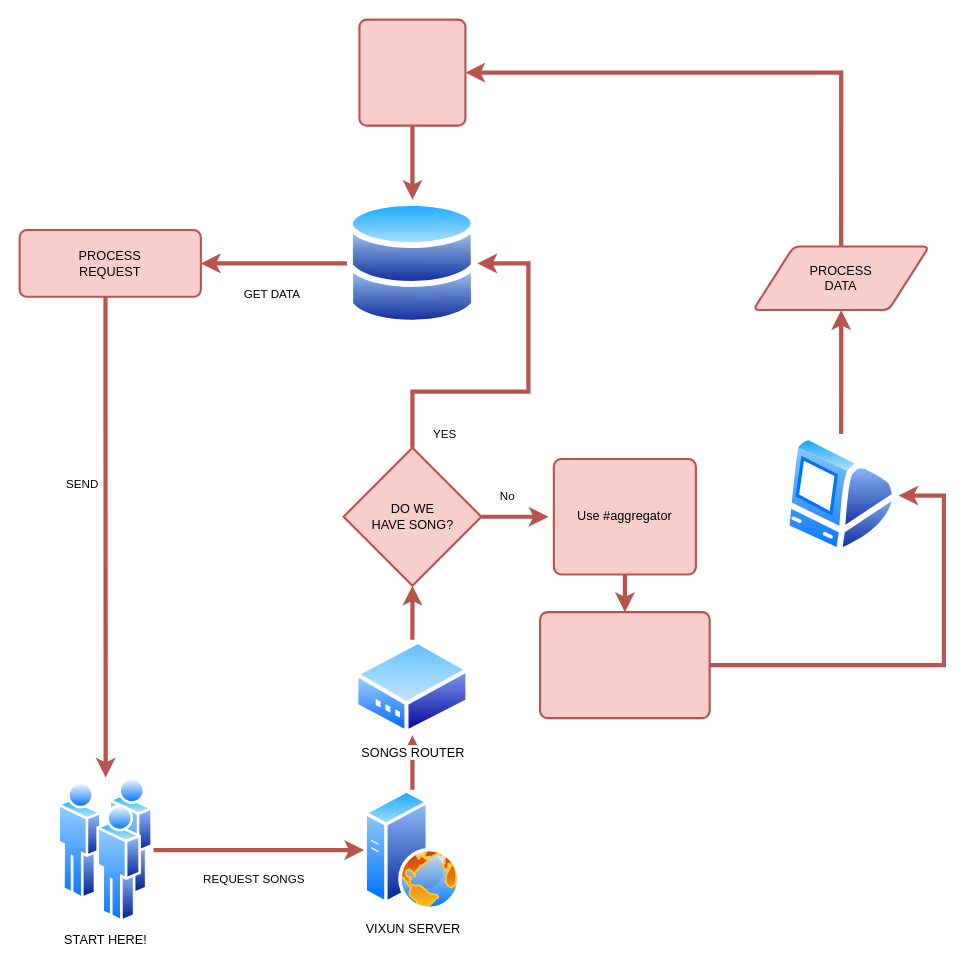
This 972x966 diagram has some shape labels left out. The centre of each missing label's shape, as x and y in pixels:
"MAKE REQUEST TO APIS FOR SONGS DATA" belongs at (624,665).
"SAVE TO DB through #Song model" belongs at (412,72).
"SPOTIFY API AND OTHERS" belongs at (840,494).
"VIXUNDB / #mongoDatabase" belongs at (412,262).
